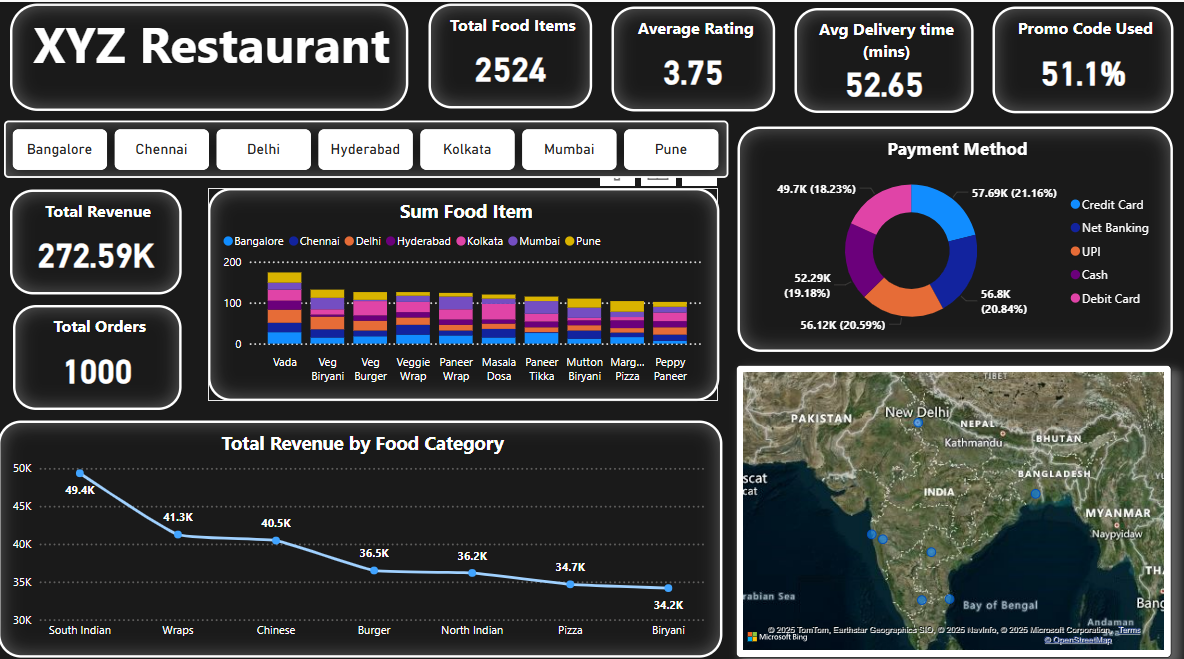

Layout of this report page (visuals, bound fields, positions):
{"tool":"powerbi","page":{"name":"Page 1","canvas":[1280,720],"ordinal":0},"visuals":[{"type":"shape","title":"XYZ Restaurant","box":[13.7,1,430,116],"z":0,"group":"g1"},{"type":"card","title":"Total Revenue","fields":{"Values":["Sheet1.Total Revenue"]},"box":[13.3,201.7,185,113.3],"z":0},{"type":"card","title":"Total Orders","fields":{"Values":["Sheet1.Total Orders"]},"box":[16.7,326.7,181.7,113.3],"z":1000},{"type":"card","title":"Average Rating","fields":{"Values":["Sheet1.Avg Rating"]},"box":[661.7,5,176.7,113.3],"z":2000},{"type":"card","title":"Avg Delivery time (mins)","fields":{"Values":["Sheet1.Avg Delivery Time (mins)"]},"box":[860,6.7,193.3,113.3],"z":3000},{"type":"card","title":"Total Food Items","fields":{"Values":["Sheet1.Total Food Items"]},"box":[465,1.7,176.7,113.3],"z":4000},{"type":"map","fields":{"Category":["Sheet1.City"]},"box":[796,392,470,316],"z":5000},{"type":"columnChart","title":"Sum Food Item ","fields":{"Category":["Sheet1.Food Item"],"Series":["Sheet1.City"],"Y":["Sum(Sheet1.Quantity)"]},"box":[226,200,552,230],"z":6000},{"type":"lineChart","title":"Total Revenue by Food Category","fields":{"Category":["Sheet1.Category"],"Y":["Sheet1.Total Revenue"]},"box":[0,452,782,256],"z":7000},{"type":"advancedSlicerVisual","fields":{"Values":["Sheet1.City"]},"box":[6,128,782,62],"z":8000},{"type":"card","title":"Promo Code Used","fields":{"Values":["Sheet1.Promo Code Usage Rate (%)"]},"box":[1073.3,5,195,115],"z":9000},{"type":"donutChart","title":"Payment Method","fields":{"Category":["Sheet1.Payment Method"],"Y":["Sum(Sheet1.Price (₹))"]},"box":[798.3,135,470,243.3],"z":10000},{"type":"group","id":"g1","title":"Group 1","box":[13.7,1,430,116],"z":11000}]}

Visuals, with their boxes in screenshot pixels (x1, y1, x2, y2), scaled from the page's 1280x720 canvas onto the 1184x659 screenshot:
"XYZ Restaurant" shape: (13,1,410,107)
"Total Revenue" card: (12,185,183,288)
"Total Orders" card: (15,299,184,403)
"Average Rating" card: (612,5,776,108)
"Avg Delivery time (mins)" card: (796,6,974,110)
"Total Food Items" card: (430,2,594,105)
map - Sheet1.City: (736,359,1171,648)
"Sum Food Item " columnChart: (209,183,720,394)
"Total Revenue by Food Category" lineChart: (0,414,723,648)
advancedSlicerVisual - Sheet1.City: (6,117,729,174)
"Promo Code Used" card: (993,5,1173,110)
"Payment Method" donutChart: (738,124,1173,346)
"Group 1" group: (13,1,410,107)
